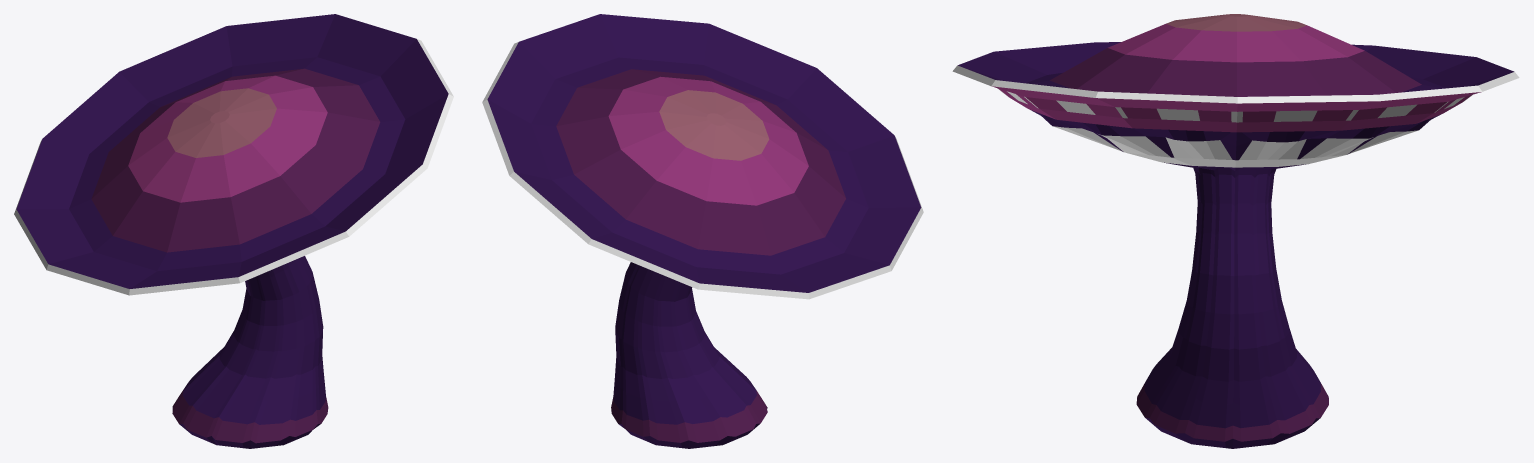
The model's file is Underground_Mushroom_Moustache.fbx.
3 views of the same model, side by side, from view 1: azimuth 30°, elevation 25°; view 2: azimuth 150°, elevation 25°; view 3: azimuth 270°, elevation 25° (orthographic). The views are drawn at different scales.
Parts seen in each view (by area): view 1: Mmoustache_01; view 2: Mmoustache_01; view 3: Mmoustache_01.
Part boxes in pixels (x1=…): Mmoustache_01: x1=14, y1=14, x2=453, y2=448; Mmoustache_01: x1=482, y1=14, x2=923, y2=448; Mmoustache_01: x1=952, y1=14, x2=1519, y2=448.
Bounding box in the file's own units: 596 × 523 × 631.
